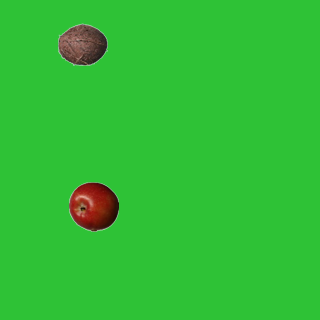Apple Braeburn: (68, 181, 118, 231)
Cocos: (57, 19, 107, 69)
